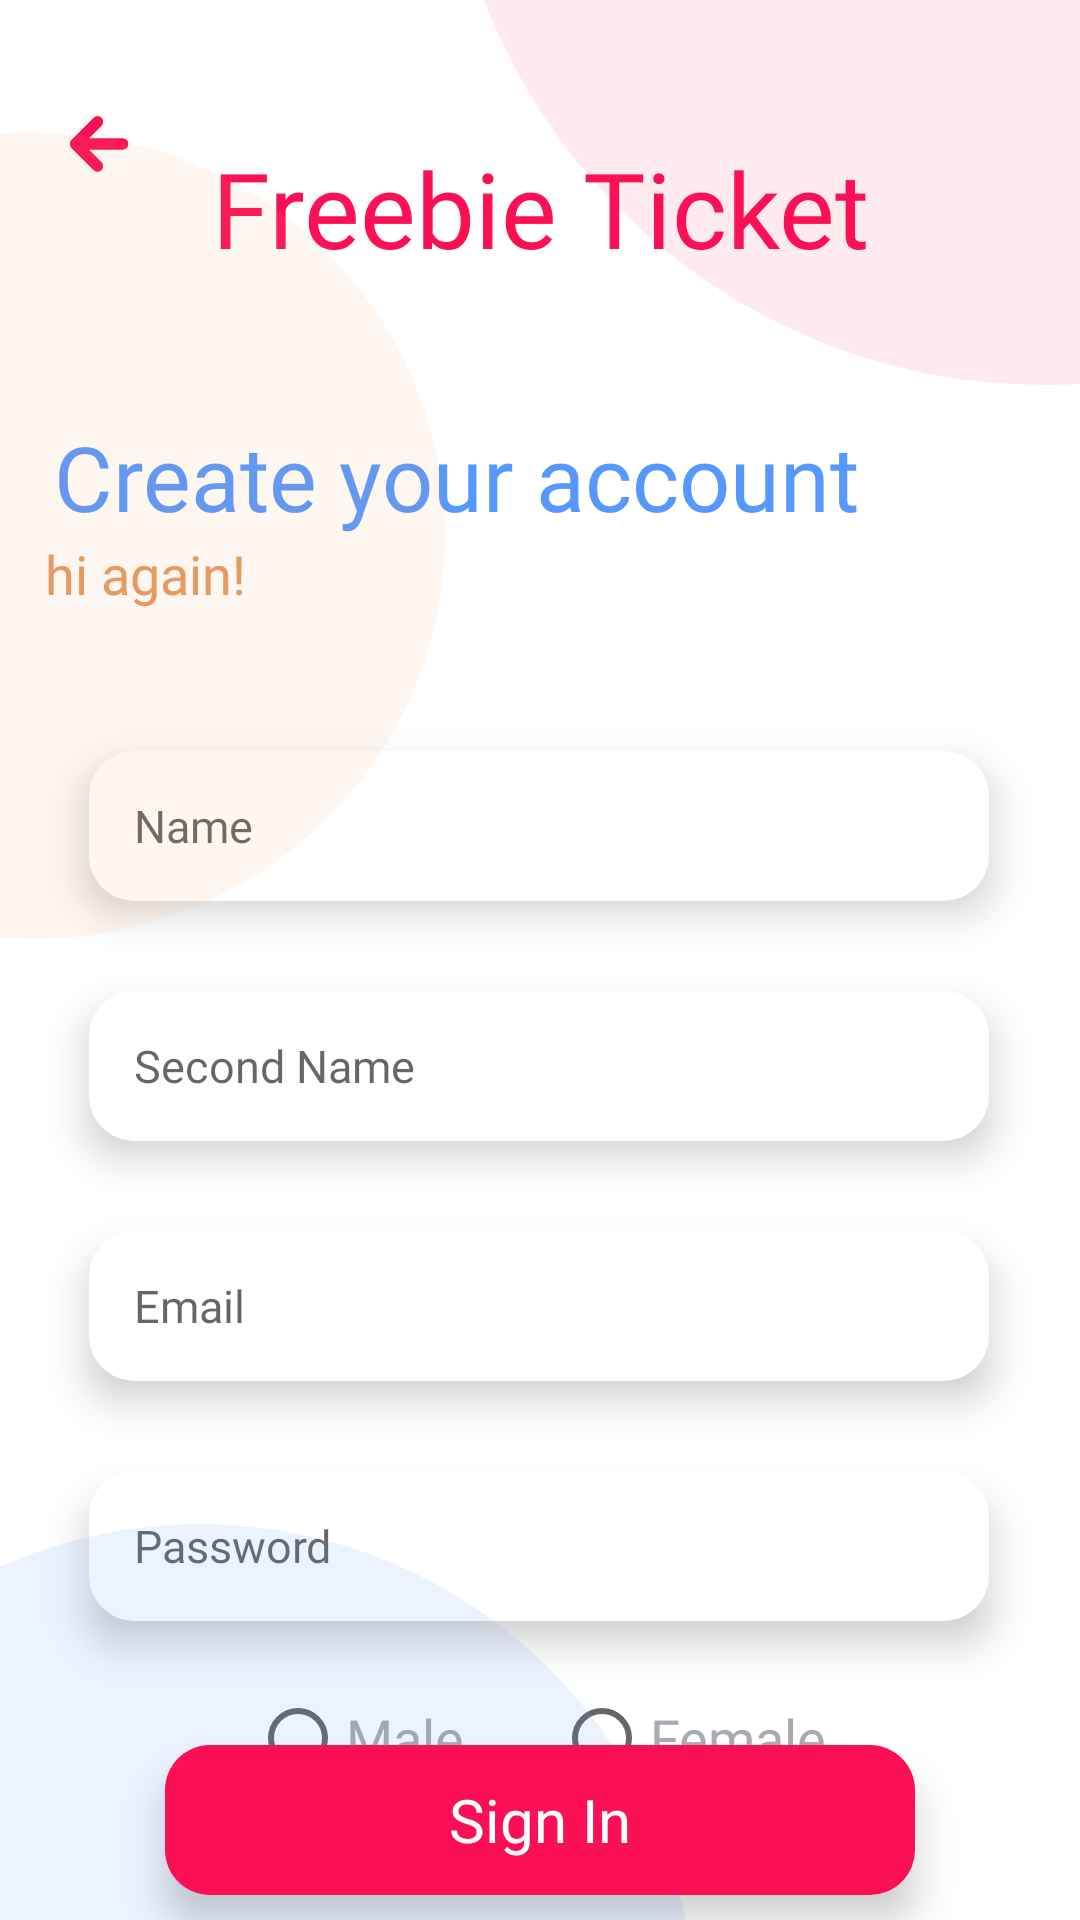

Icons on this 1080px×1920px Android screen, each with the point to tap as (x,y):
top bar back: (100,131)
